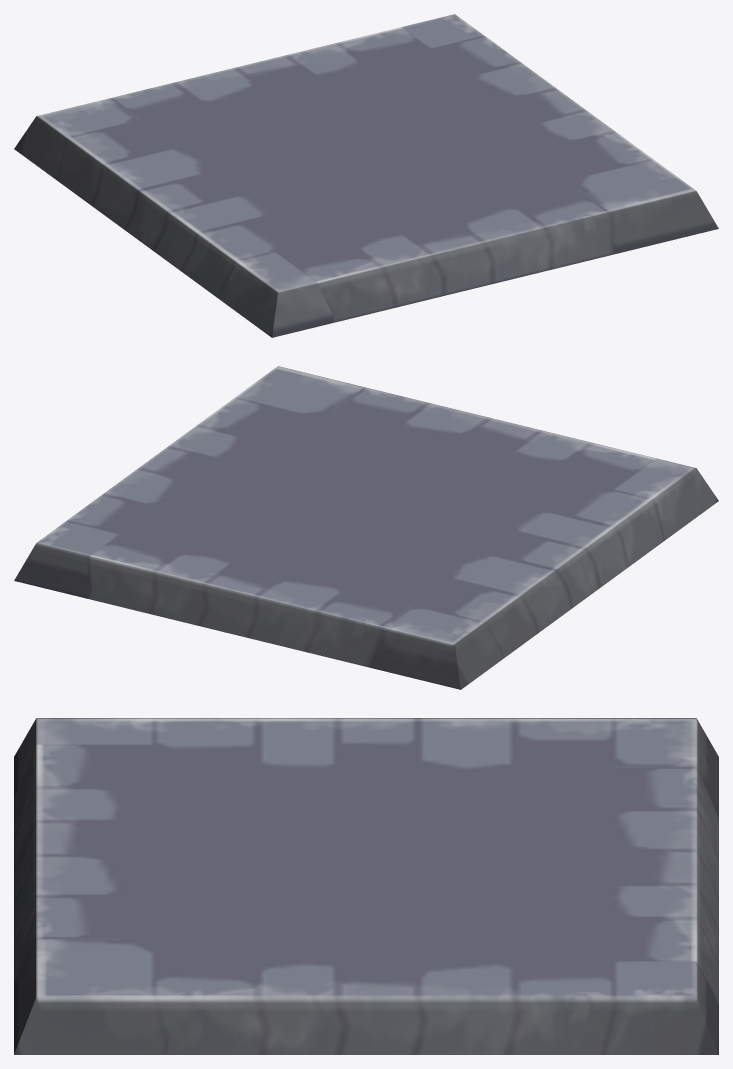
Rendered from Brick (1).FBX.
The picture shows the model from 3 angles, top to bottom: view 1: azimuth 30°, elevation 25°; view 2: azimuth 150°, elevation 25°; view 3: azimuth 270°, elevation 25°; orthographic projection. The views are drawn at different scales.
Parts seen in each view (by area): view 1: Brick; view 2: Brick; view 3: Brick.
Part boxes in pixels (bbox=[...]): Brick: bbox=[14, 14, 718, 337]; Brick: bbox=[14, 366, 718, 689]; Brick: bbox=[14, 718, 718, 1054].
Bounding box in the file's own units: 200 × 15.15 × 200.
